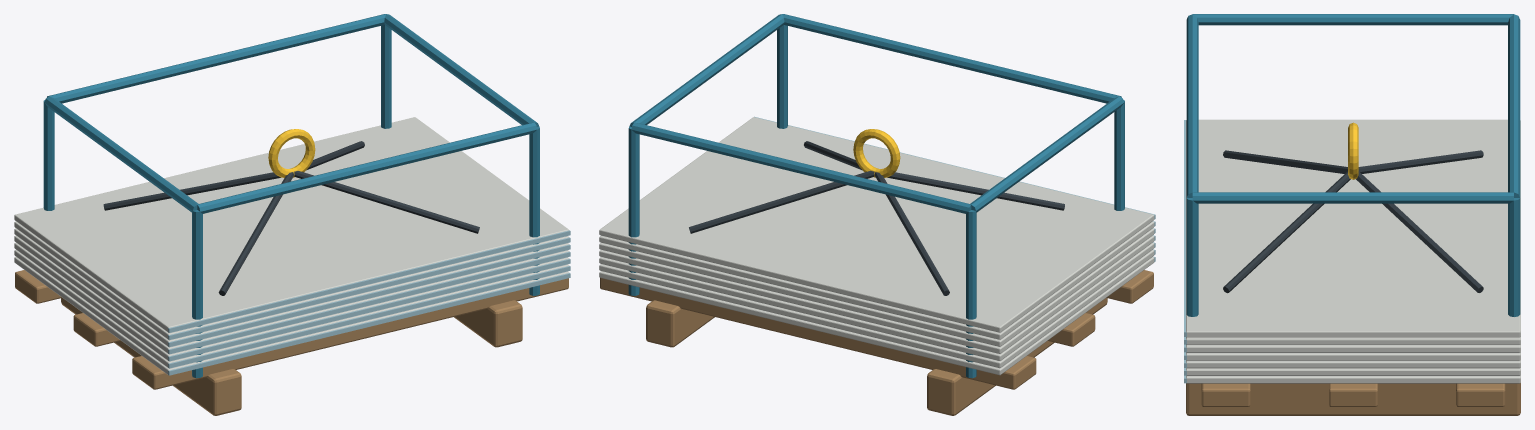
File: gypsum-stack-unit.glb
3 renders of one model, left to right at view 1: azimuth 30°, elevation 25°; view 2: azimuth 150°, elevation 25°; view 3: azimuth 270°, elevation 25°, orthographic. The views are drawn at different scales.
Visible parts, largest first — view 1: GypsumBoard.006, PalletDeck.030, LiftFrameRail.020, LiftFrameRail.021, PalletFoot.020, BlueBoardEdge.006, BlueBoardEdge.001, BlueBoardEdge, BlueBoardEdge.003, BlueBoardEdge.004, BlueBoardEdge.002, BlueBoardEdge.005 (+19 smaller); view 2: GypsumBoard.006, PalletDeck.032, GypsumBoard.005, GypsumBoard.004, GypsumBoard.002, GypsumBoard, GypsumBoard.003, GypsumBoard.001, LiftFrameRail.021, LiftFrameRail.020, PalletFoot.020, LiftFrameTop.020 (+12 smaller); view 3: GypsumBoard.006, PalletFoot.021, LiftFrameTop.021, LiftFrameTop.020, GypsumBoard.002, GypsumBoard.003, GypsumBoard, GypsumBoard.004, GypsumBoard.005, GypsumBoard.001, LiftFrameRail.020, LiftFrameRail.021 (+11 smaller).
Part boxes in pixels (x1,y1,x2,y2): GypsumBoard.006: [14, 117, 568, 331]; PalletDeck.030: [132, 278, 568, 389]; LiftFrameRail.020: [197, 122, 537, 213]; LiftFrameRail.021: [47, 14, 385, 103]; PalletFoot.020: [61, 298, 241, 415]; BlueBoardEdge.006: [168, 230, 570, 332]; BlueBoardEdge.001: [168, 266, 570, 368]; BlueBoardEdge: [168, 273, 570, 375]; BlueBoardEdge.003: [168, 251, 570, 354]; BlueBoardEdge.004: [168, 244, 570, 347]; BlueBoardEdge.002: [168, 258, 570, 361]; BlueBoardEdge.005: [168, 237, 570, 340]; GypsumBoard.006: [599, 117, 1154, 332]; PalletDeck.032: [600, 278, 1036, 389]; GypsumBoard.005: [599, 221, 1154, 339]; GypsumBoard.004: [599, 228, 1154, 346]; GypsumBoard.002: [599, 242, 1154, 360]; GypsumBoard: [599, 257, 1154, 375]; GypsumBoard.003: [599, 235, 1154, 353]; GypsumBoard.001: [599, 250, 1154, 368]; LiftFrameRail.021: [631, 122, 971, 213]; LiftFrameRail.020: [782, 14, 1121, 103]; PalletFoot.020: [927, 298, 1107, 415]; LiftFrameTop.020: [970, 96, 1124, 212]; GypsumBoard.006: [1186, 119, 1520, 337]; PalletFoot.021: [1186, 383, 1520, 415]; LiftFrameTop.021: [1192, 192, 1513, 203]; LiftFrameTop.020: [1193, 14, 1513, 25]; GypsumBoard.002: [1186, 359, 1520, 368]; GypsumBoard.003: [1186, 352, 1520, 360]; GypsumBoard: [1186, 375, 1520, 383]; GypsumBoard.004: [1186, 344, 1520, 352]; GypsumBoard.005: [1186, 336, 1520, 344]; GypsumBoard.001: [1186, 367, 1520, 375]; LiftFrameRail.020: [1186, 14, 1198, 197]; LiftFrameRail.021: [1508, 14, 1520, 197].
Bounding box in the file's own units: 2.33 × 1.15 × 1.51.
